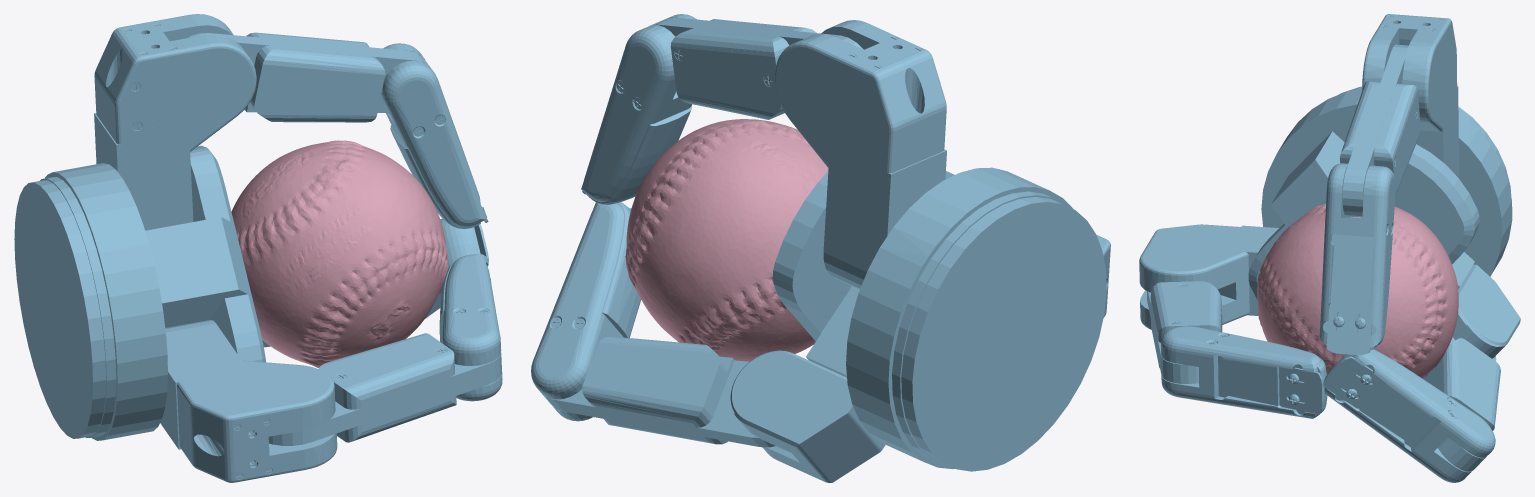
3 renders of one model, left to right at view 1: azimuth 30°, elevation 25°; view 2: azimuth 150°, elevation 25°; view 3: azimuth 270°, elevation 25°, orthographic. The views are drawn at different scales.
Parts seen in each view (by area): view 1: world; view 2: world; view 3: world.
Boxes of the visible parts, x1,y1,x2,y2 form: world: (14, 14, 502, 482); world: (531, 14, 1110, 482); world: (1139, 14, 1520, 482).
Bounding box in the file's own units: 0.162 × 0.1374 × 0.1375.
